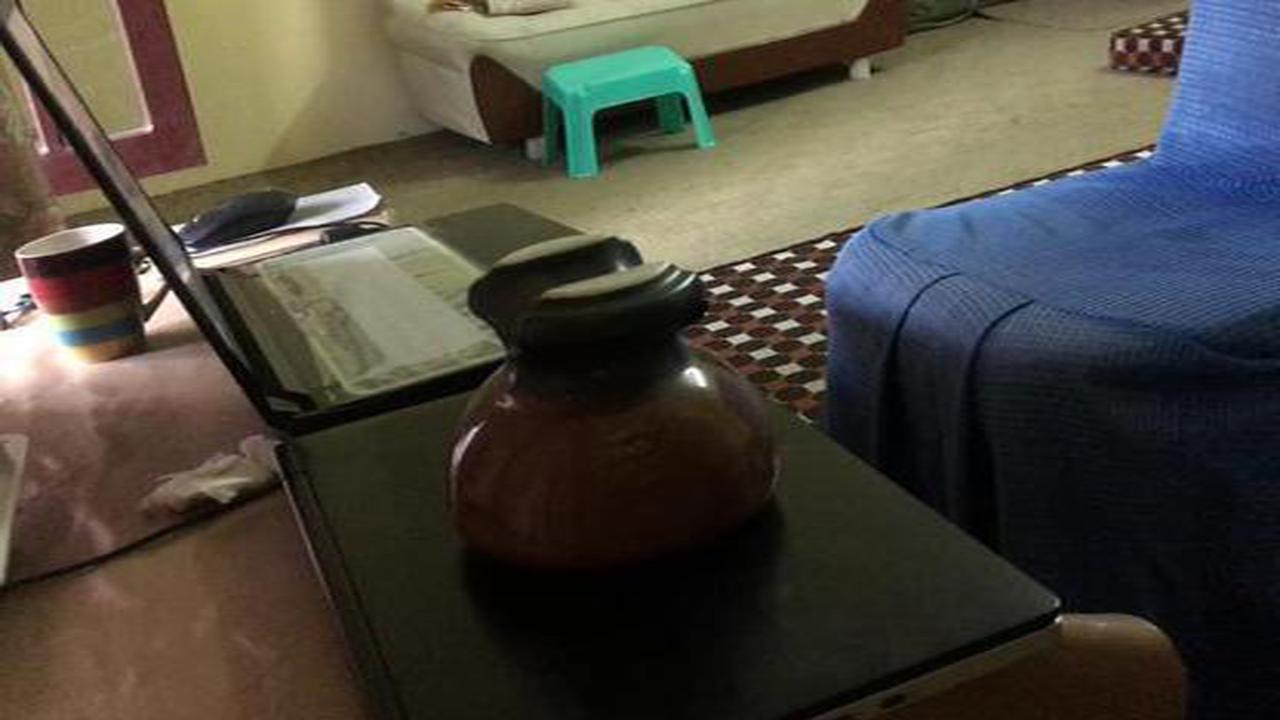insulator_pin: (434, 224, 794, 598)
